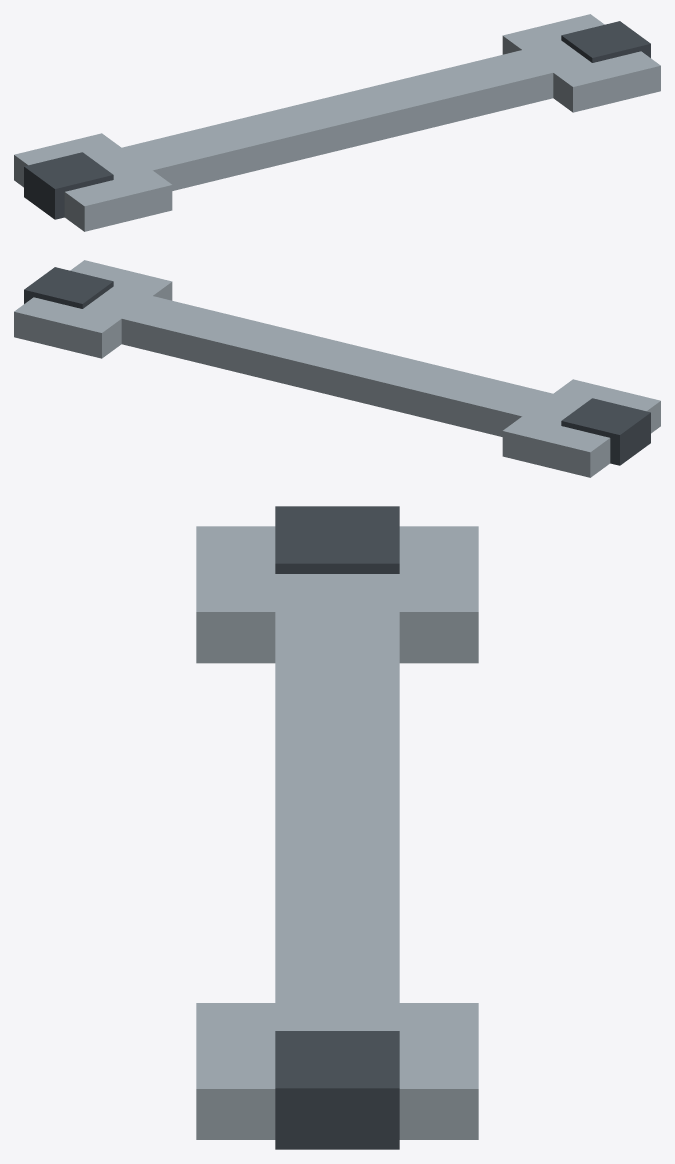
Rendered from GT_Wrench_01.glb.
3 views of the same model, one above another, from view 1: azimuth 30°, elevation 25°; view 2: azimuth 150°, elevation 25°; view 3: azimuth 270°, elevation 25° (orthographic). The views are drawn at different scales.
Parts seen in each view (by area): view 1: GT_Wrench_01; view 2: GT_Wrench_01; view 3: GT_Wrench_01.
Part boxes in pixels (x1,y1,x2,y2): GT_Wrench_01: (14,14,660,231); GT_Wrench_01: (14,260,660,477); GT_Wrench_01: (196,506,478,1149).
Size of the model in its own units: 0.244 by 0.012 by 0.05.
Materials: 1 (1 with a texture image).
